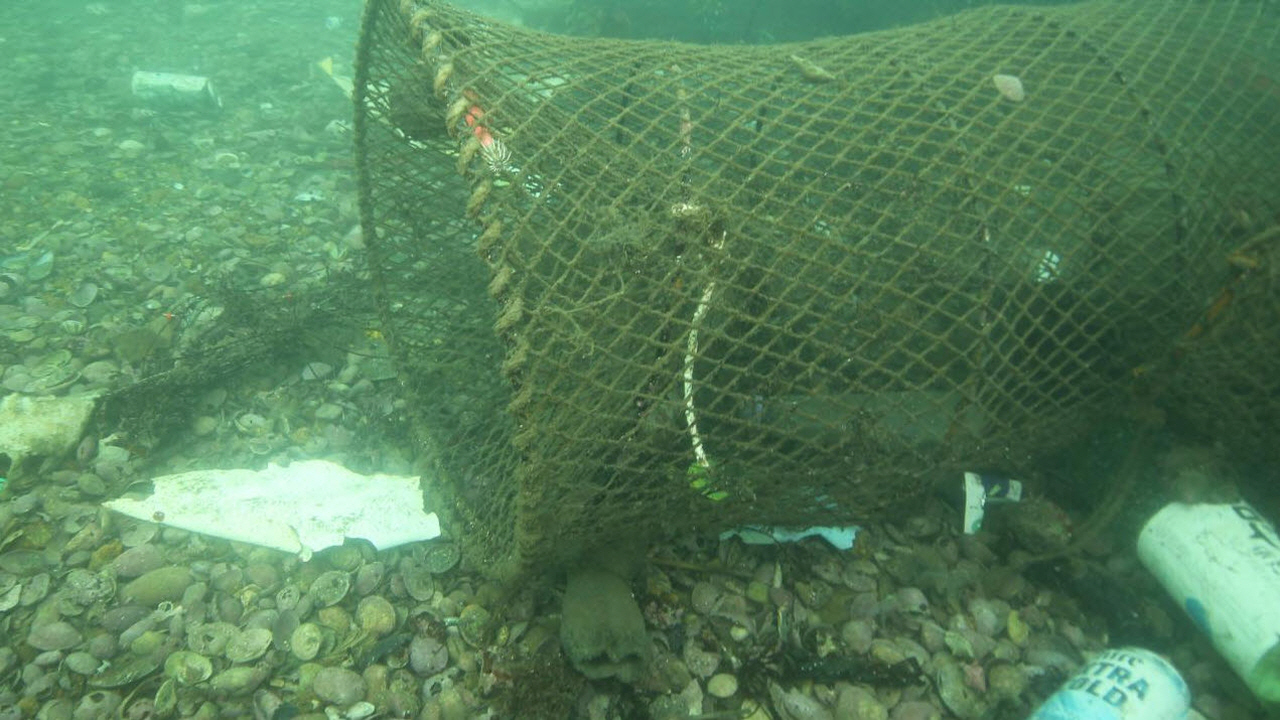spring fish trap: (351, 0, 1280, 586)
